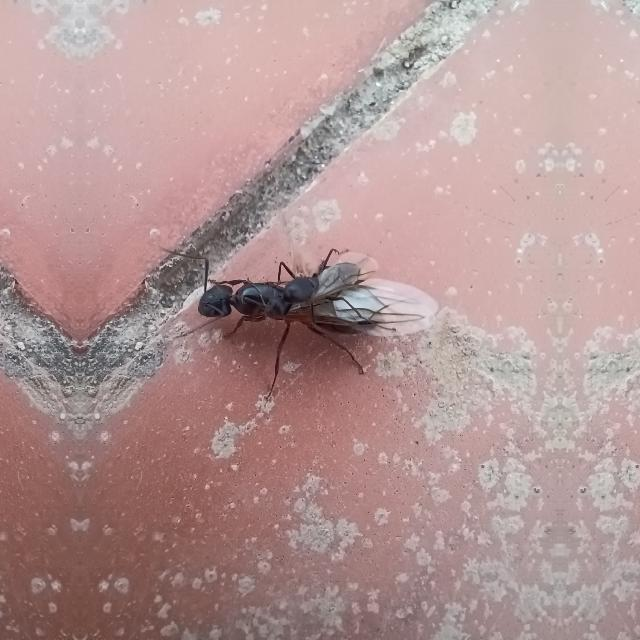Camponotus: (144, 212, 432, 368), (260, 232, 388, 326)
